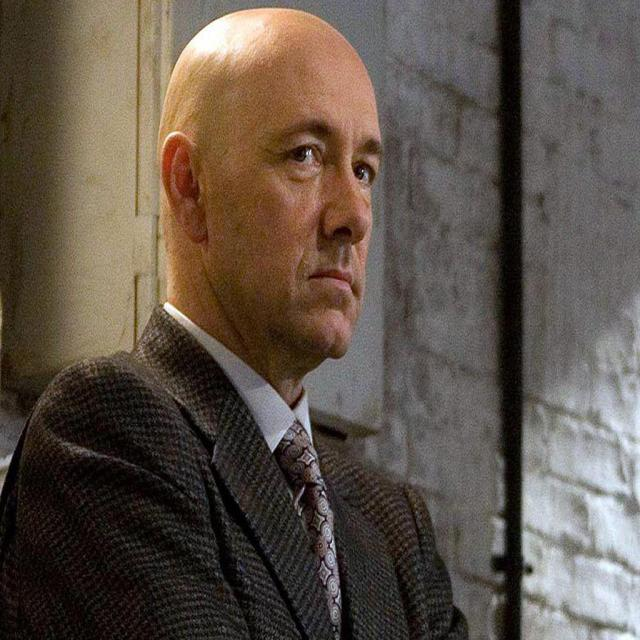no-earmuff: (150, 123, 225, 260)
